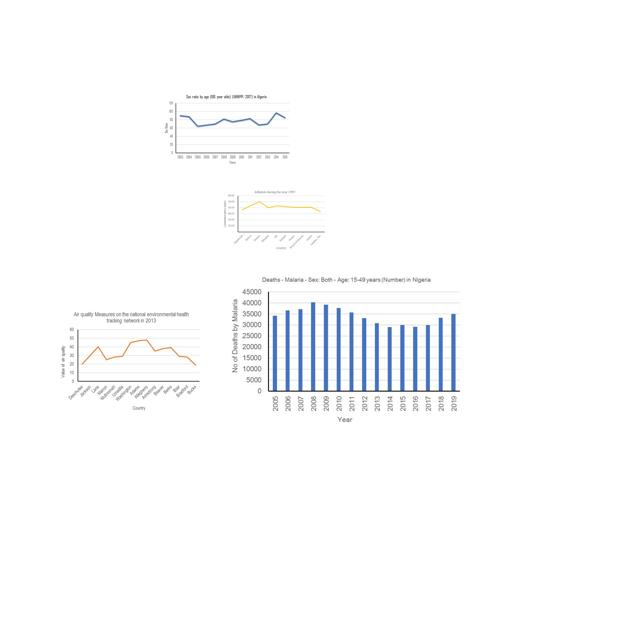Graph: (227, 273, 465, 429), (60, 311, 203, 412), (163, 94, 291, 166), (223, 189, 327, 250)
